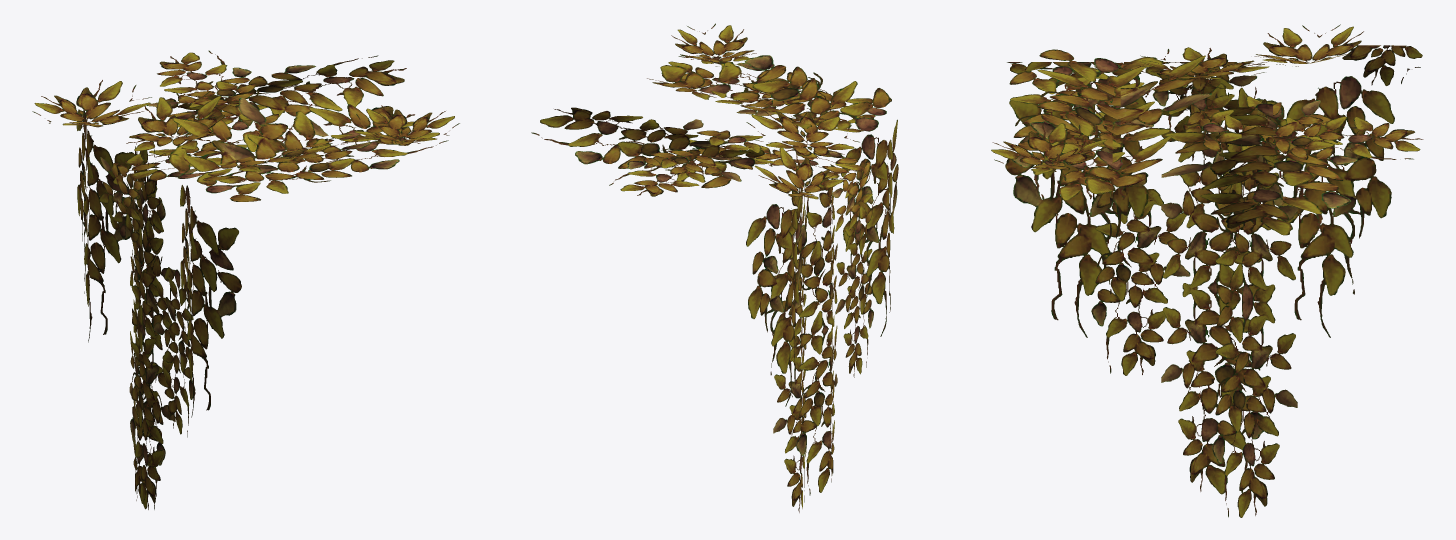
The model's file is huangyediaoteng_41.FBX.
3 renders of one model, left to right at view 1: azimuth 30°, elevation 25°; view 2: azimuth 150°, elevation 25°; view 3: azimuth 270°, elevation 25°, orthographic. The views are drawn at different scales.
Parts seen in each view (by area): view 1: huangyediaoteng_41; view 2: huangyediaoteng_41; view 3: huangyediaoteng_41.
Part boxes in pixels (x1,y1,x2,y2): huangyediaoteng_41: [32, 50, 459, 509]; huangyediaoteng_41: [531, 23, 898, 512]; huangyediaoteng_41: [991, 24, 1423, 517].
Size of the model in its own units: 161 by 173 by 148.
